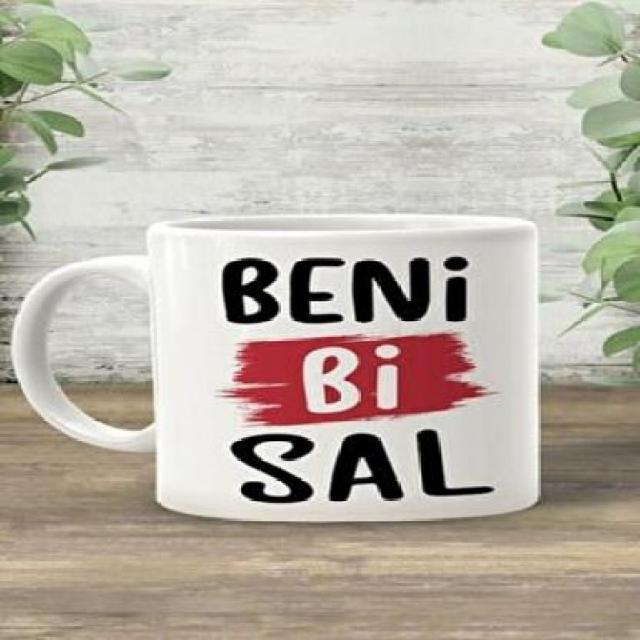taza: (9, 185, 548, 531)
